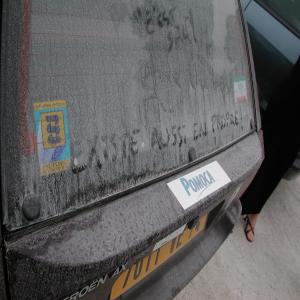Vehicle-registration-plate: (111, 214, 208, 300)
